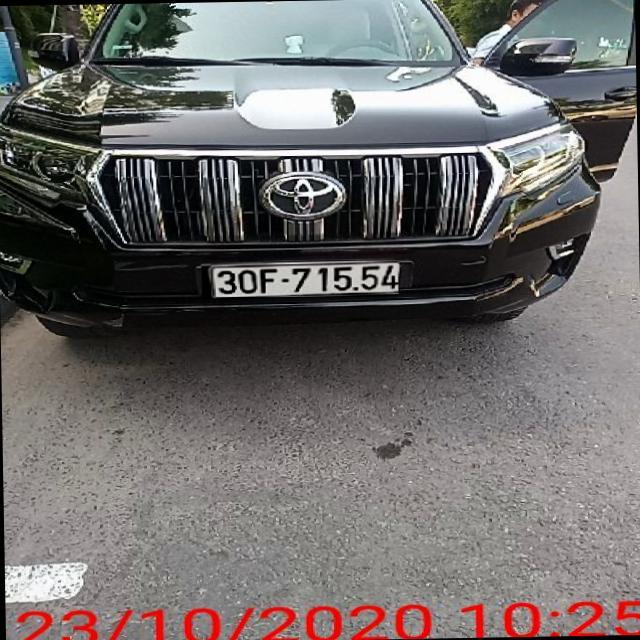car: (0, 0, 640, 342)
plate: (206, 249, 414, 307)
